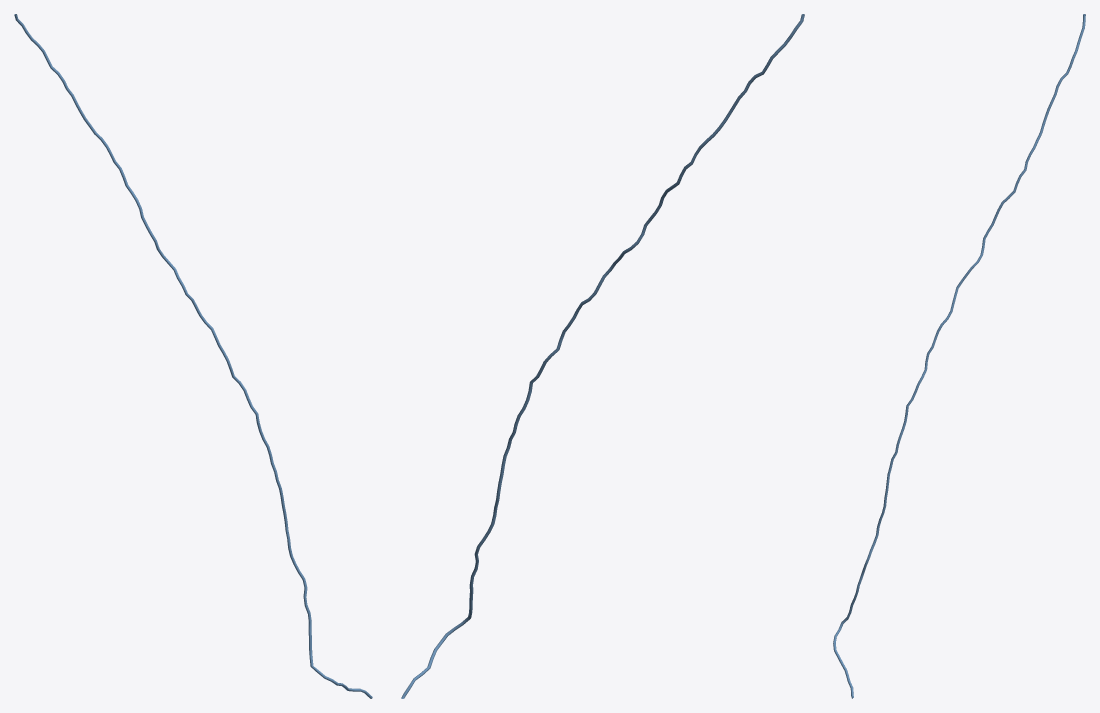
Rendered from sweep261.fbx.
The picture shows the model from 3 angles, left to right: view 1: azimuth 30°, elevation 25°; view 2: azimuth 210°, elevation 25°; view 3: azimuth 270°, elevation 25°; orthographic projection. The views are drawn at different scales.
Visible parts, largest first — view 1: sweep261; view 2: sweep261; view 3: sweep261.
Boxes of the visible parts, x1,y1,x2,y2 form: sweep261: [14, 14, 372, 698]; sweep261: [401, 14, 804, 698]; sweep261: [833, 14, 1085, 698].
Bounding box in the file's own units: 1.76 × 4.73 × 1.85.
